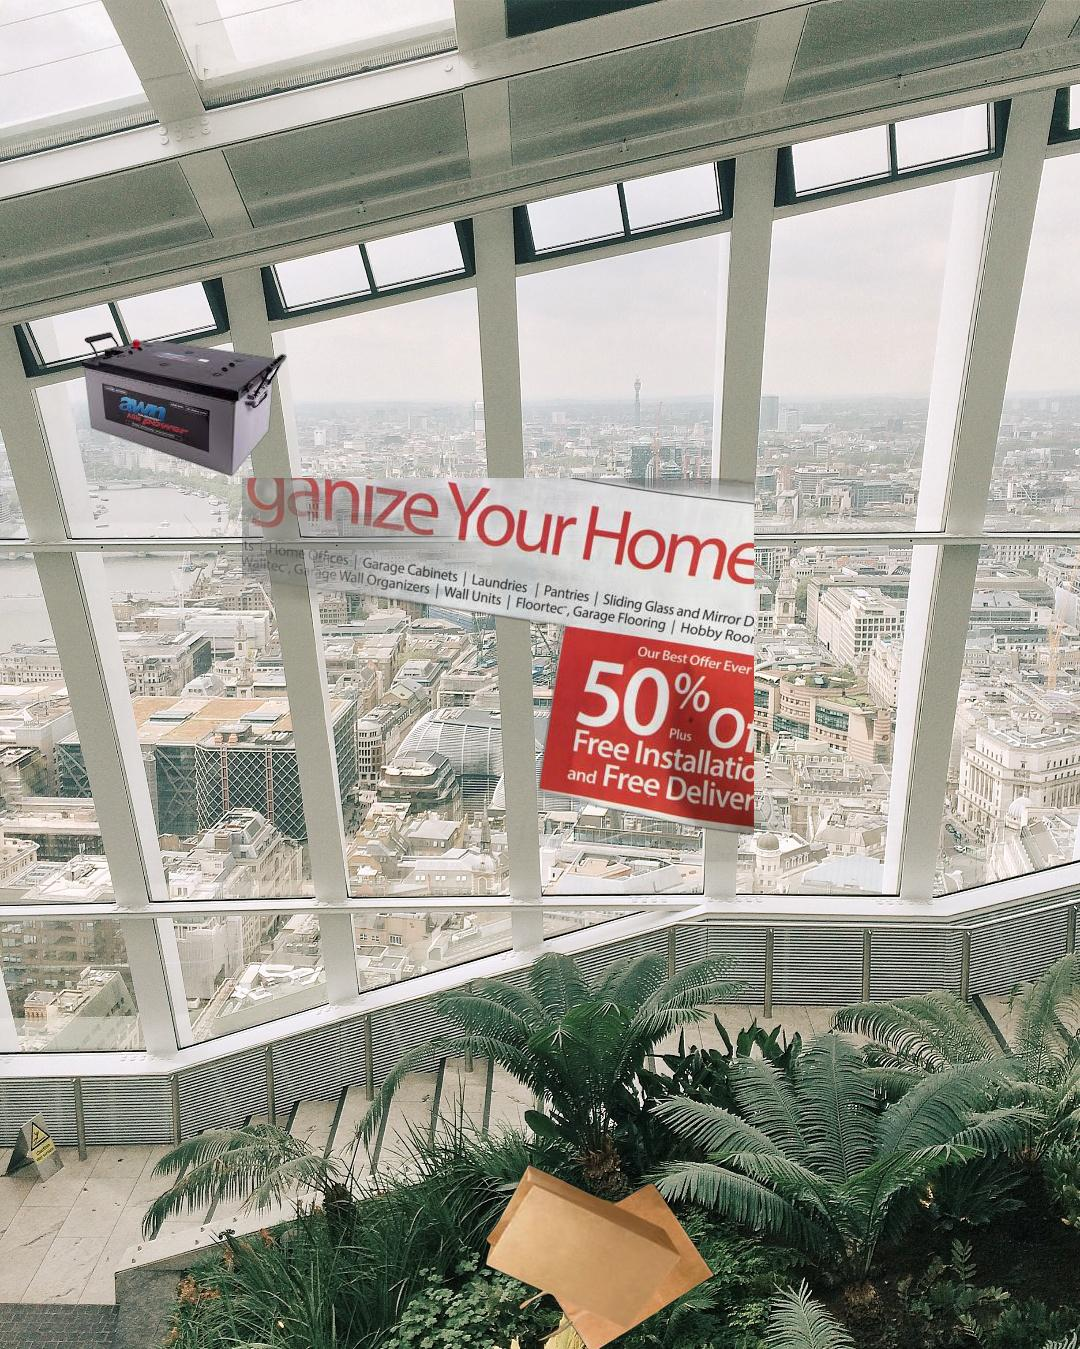battery: (79, 330, 289, 479)
paper: (242, 478, 754, 862)
paper-bag: (482, 1161, 716, 1349)
